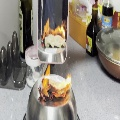fire: (41, 65, 71, 98)
